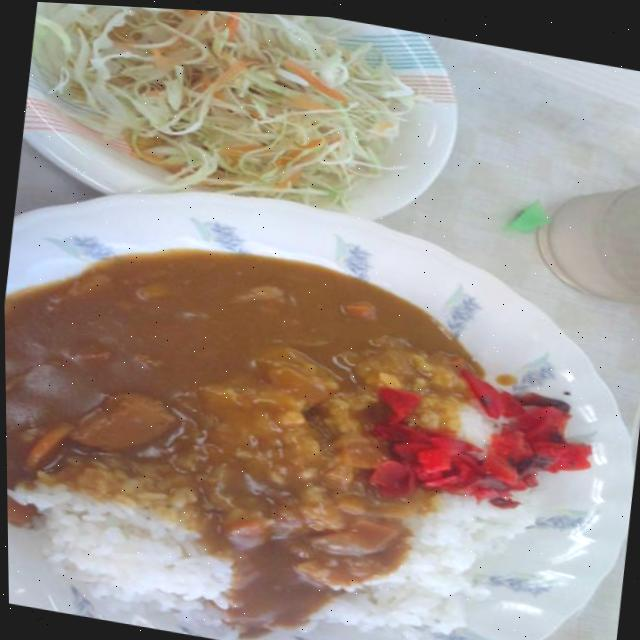牛肉菜式: (2, 210, 592, 640)
蔬菜料理: (14, 1, 439, 251)
